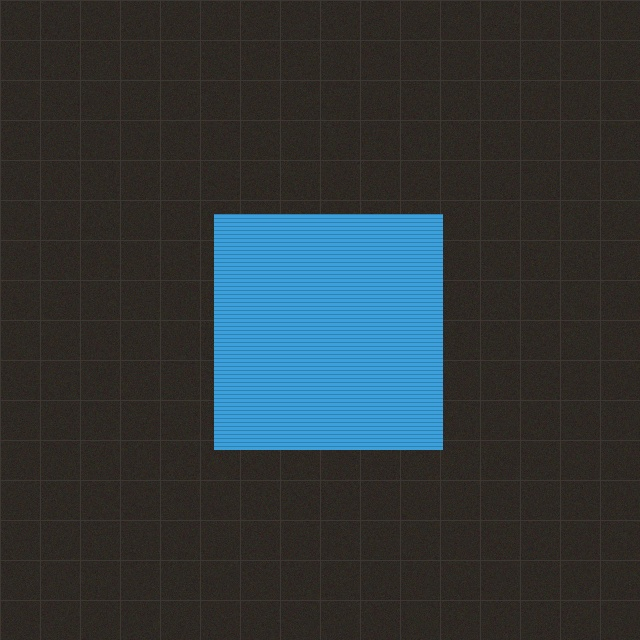normal: (214, 214, 442, 449)
